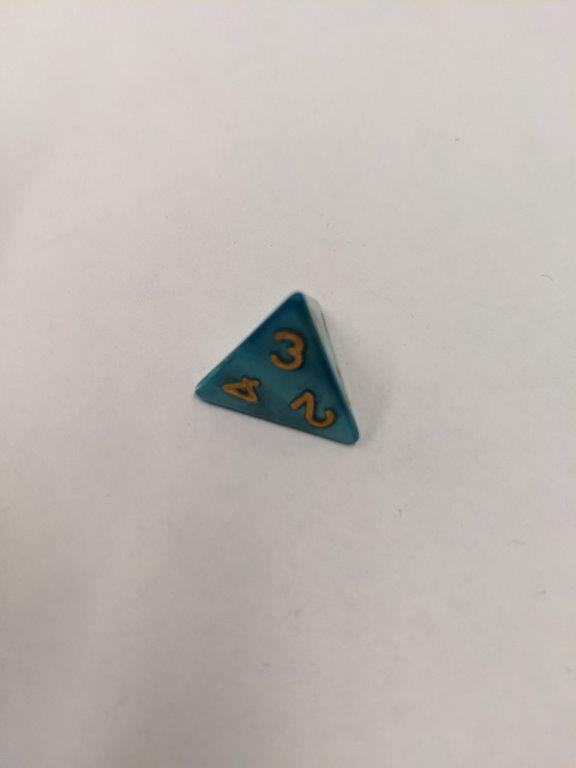d4-3: (188, 288, 367, 454)
